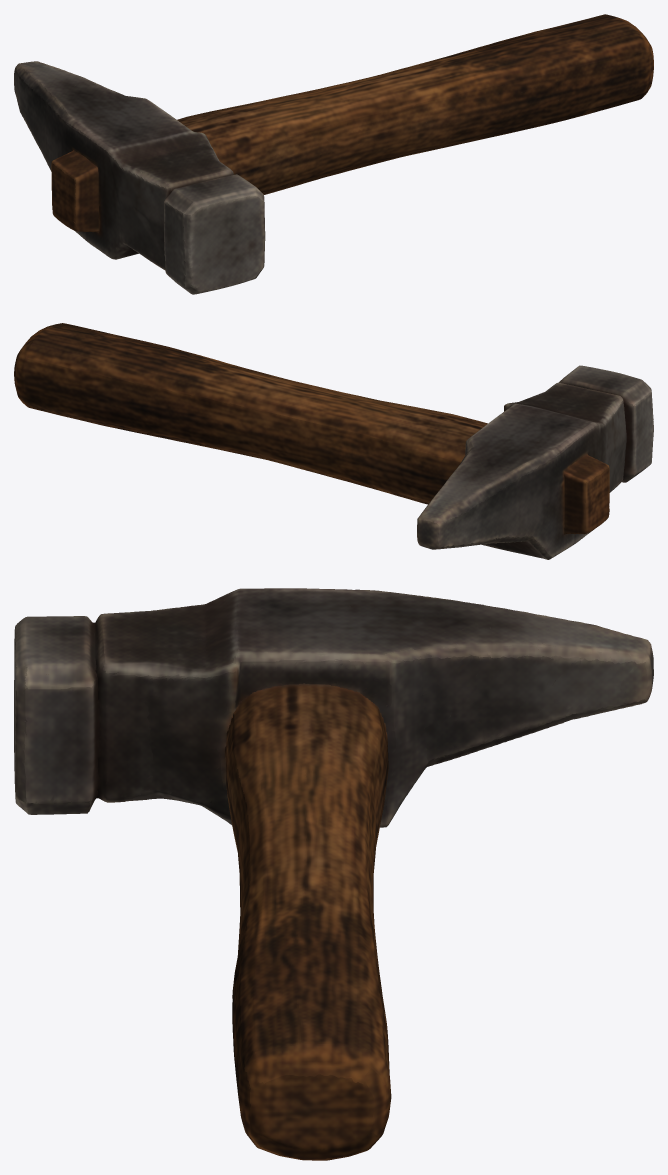
File: hammer.glb
The picture shows the model from 3 angles, top to bottom: view 1: azimuth 30°, elevation 25°; view 2: azimuth 150°, elevation 25°; view 3: azimuth 270°, elevation 25°; orthographic projection. The views are drawn at different scales.
Parts seen in each view (by area): view 1: world; view 2: world; view 3: world.
Boxes of the visible parts, left/top/right/bottom form: world: left=14, top=14, right=653, bottom=294; world: left=14, top=323, right=653, bottom=559; world: left=14, top=588, right=653, bottom=1160.
Bounding box in the file's own units: 1 × 0.1867 × 0.5971.
Materials: 1 (1 with a texture image).
